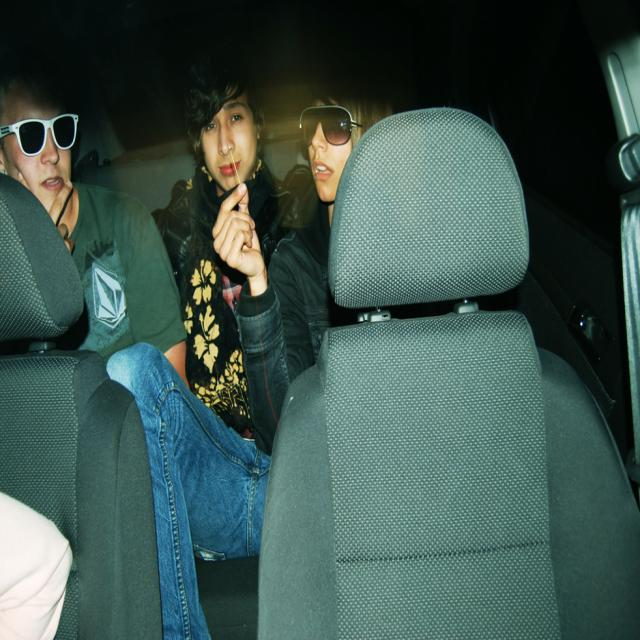Glasses: (0, 113, 78, 160)
